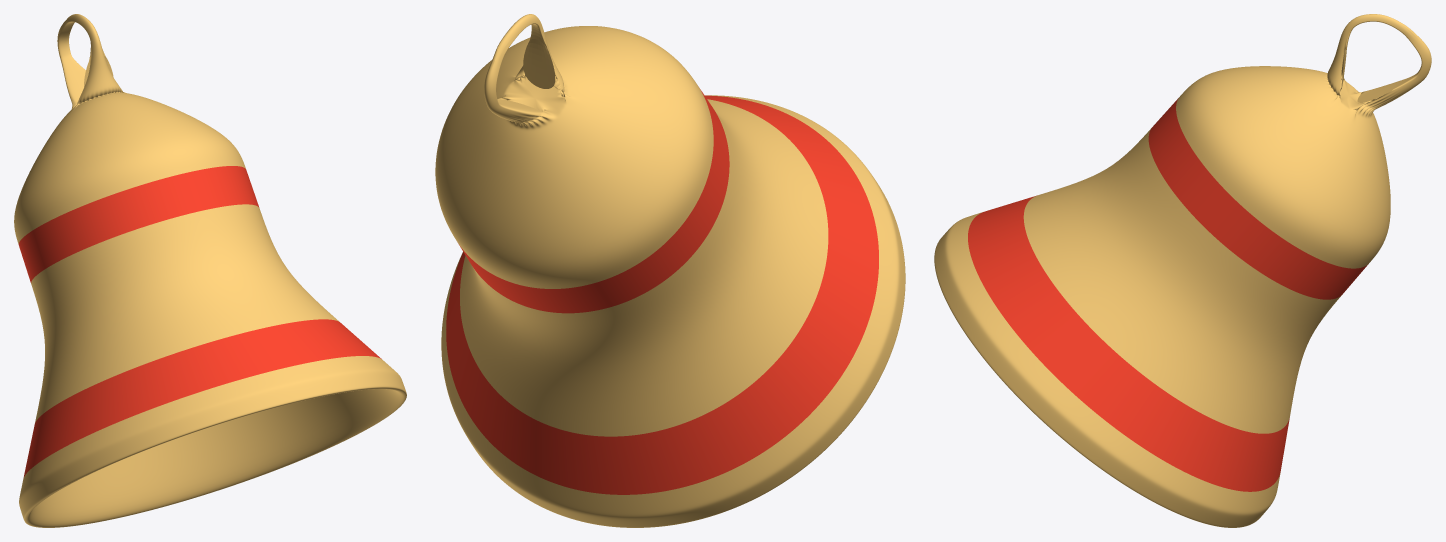
File: scene_cloche2.glb
3 renders of one model, left to right at view 1: azimuth 30°, elevation 25°; view 2: azimuth 150°, elevation 25°; view 3: azimuth 270°, elevation 25°, orthographic. The views are drawn at different scales.
Parts seen in each view (by area): view 1: Cloche; view 2: Cloche; view 3: Cloche.
Boxes of the visible parts, left/top/right/bottom form: Cloche: left=14, top=14, right=406, bottom=527; Cloche: left=435, top=14, right=905, bottom=527; Cloche: left=934, top=14, right=1431, bottom=527.
Bounding box in the file's own units: 2.53 × 3.18 × 2.97.
